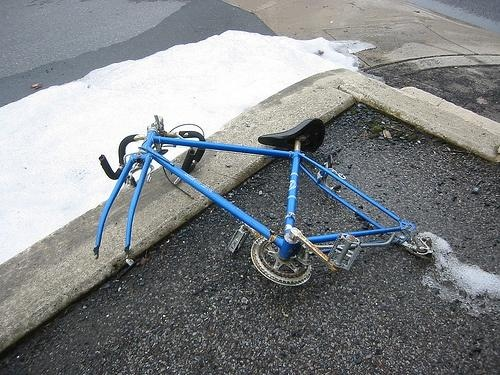bicycle: (93, 115, 435, 289)
